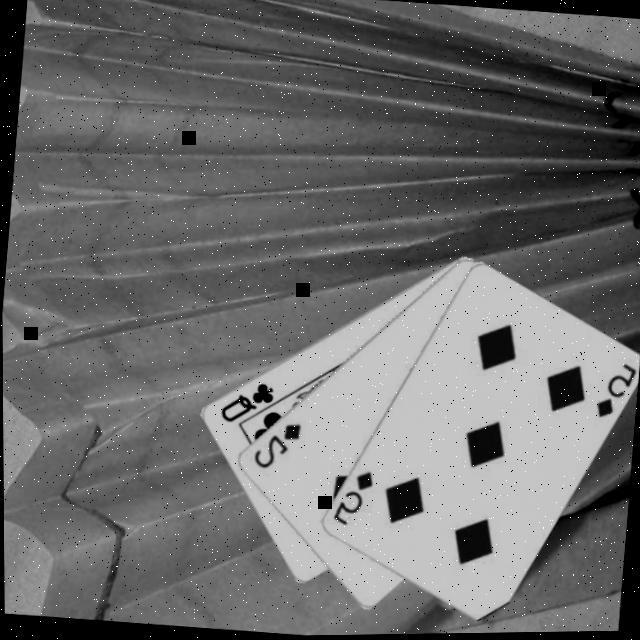2D: (247, 416, 301, 474)
5D: (589, 357, 638, 424), (326, 463, 374, 530)
QC: (214, 374, 276, 428)
